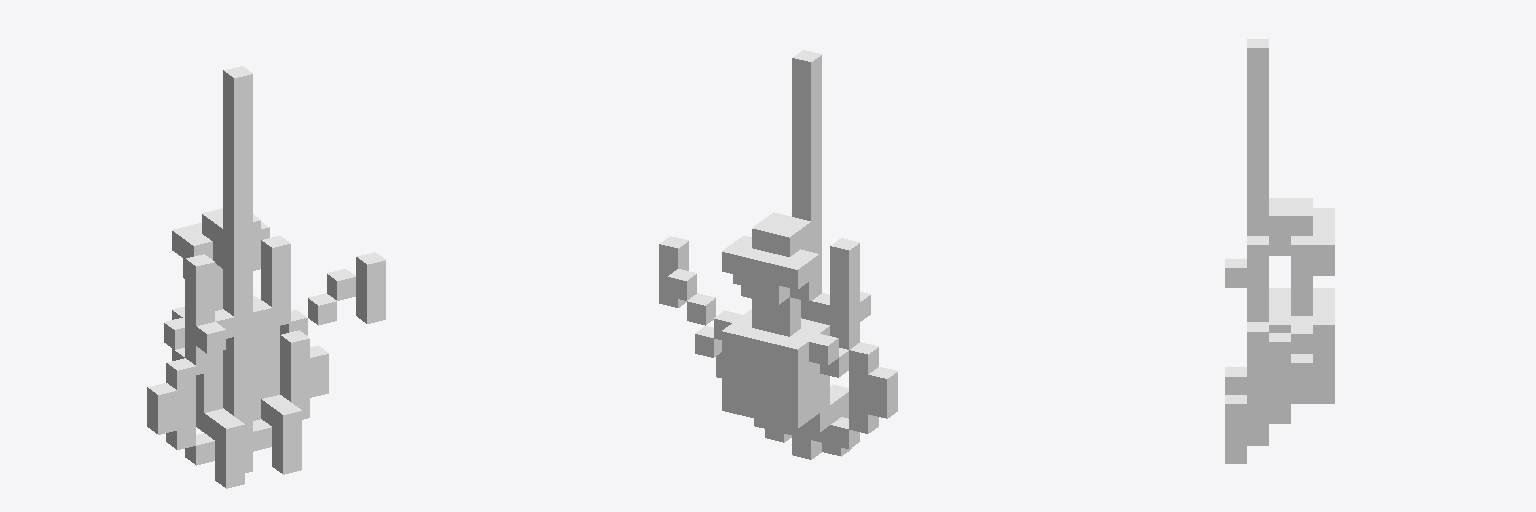
The model's file is scummBarAnchorPirate.obj.
3 renders of one model, left to right at view 1: azimuth 30°, elevation 25°; view 2: azimuth 150°, elevation 25°; view 3: azimuth 270°, elevation 25°, orthographic.
Size of the model in its own units: 12 by 20 by 5.